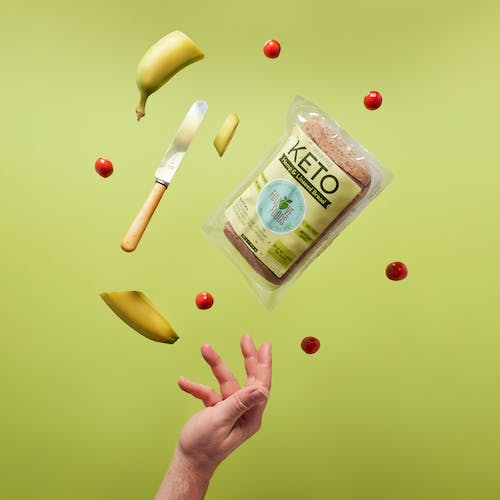knife: (115, 97, 210, 255)
